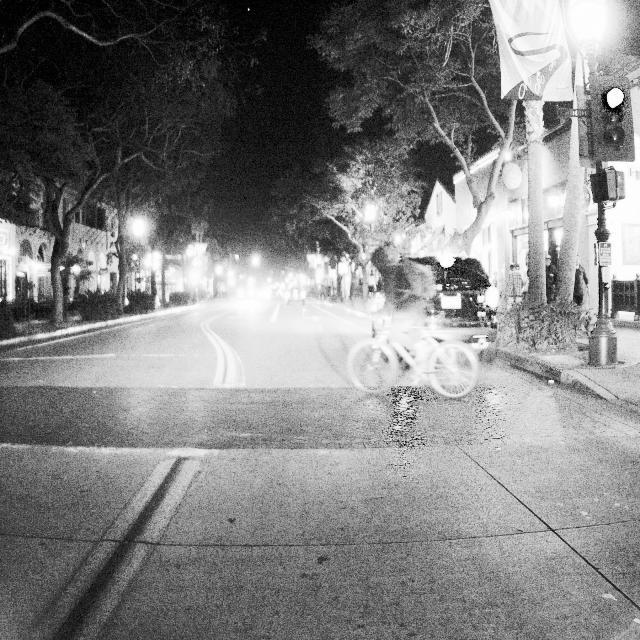Light: (600, 80, 629, 155)
